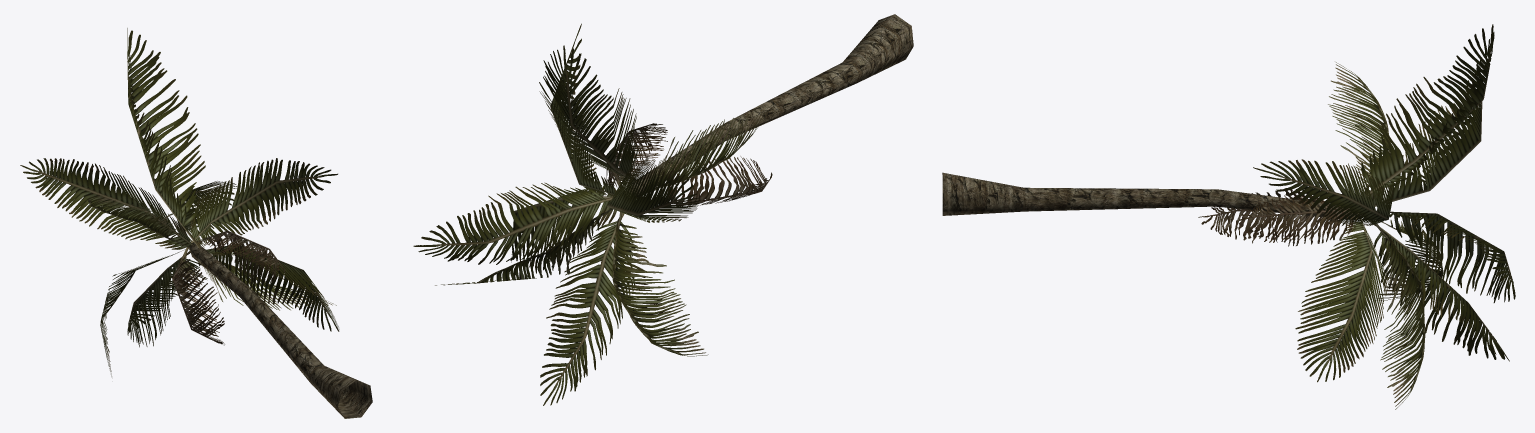
Rendered from MEP_Palm_02_01.fbx.
3 views of the same model, side by side, from view 1: azimuth 30°, elevation 25°; view 2: azimuth 150°, elevation 25°; view 3: azimuth 270°, elevation 25° (orthographic). The views are drawn at different scales.
Parts seen in each view (by area): view 1: MEP_Palm_Leafs_01, Palm_Trunk_01; view 2: MEP_Palm_Leafs_01, Palm_Trunk_01; view 3: MEP_Palm_Leafs_01, Palm_Trunk_01.
Boxes of the visible parts, x1,y1,x2,y2 form: MEP_Palm_Leafs_01: (20, 28, 339, 376); Palm_Trunk_01: (189, 243, 372, 418); MEP_Palm_Leafs_01: (413, 23, 772, 405); Palm_Trunk_01: (629, 14, 913, 196); MEP_Palm_Leafs_01: (1198, 24, 1515, 409); Palm_Trunk_01: (942, 172, 1362, 219).
Bounding box in the file's own units: 5.98 × 6.49 × 9.67.
